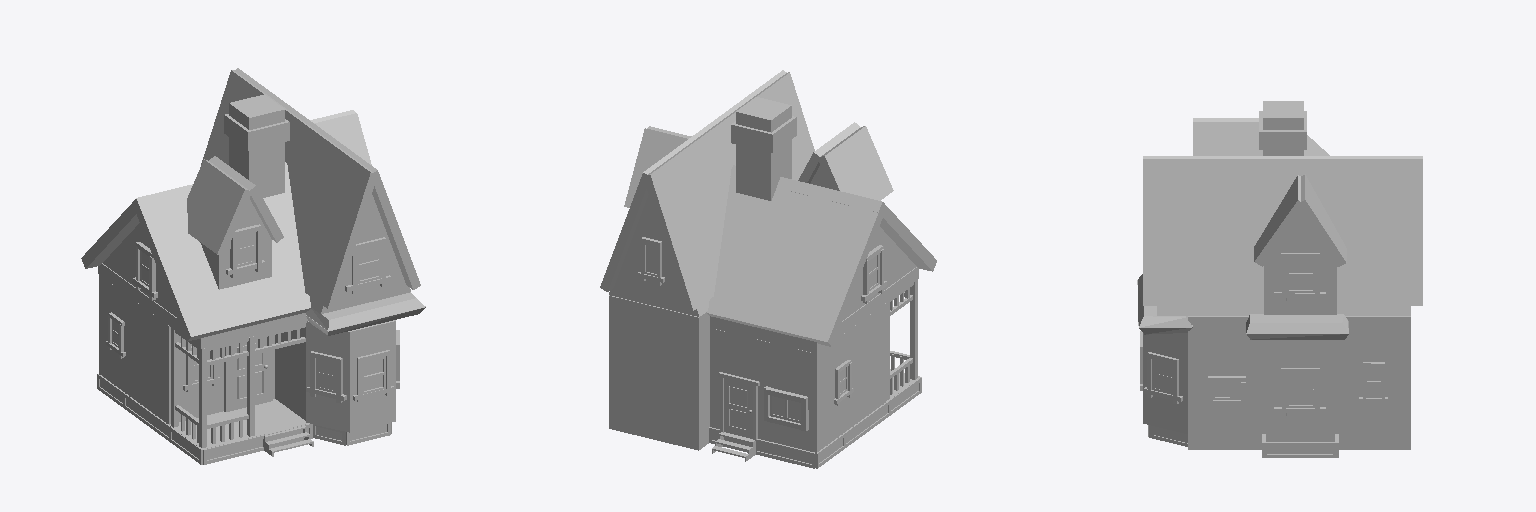
Rendered from house.obj.
The picture shows the model from 3 angles: view 1: azimuth 30°, elevation 25°; view 2: azimuth 150°, elevation 25°; view 3: azimuth 270°, elevation 25°; orthographic projection.
Parts seen in each view (by area): view 1: Cube.042, Cube.046, Cube.002, Cylinder, Cube.047, Cube.048, Cube.004, Cylinder.003, Cube.044, Cube.001, Cube.006, Cube.005 (+11 smaller); view 2: Cube.043, Cube.006, Cube.002, Cube.046, Cube.048, Cylinder.003, Cube.047, Cube.042, Cube.001, Cube.044, Cylinder.002, Cube.004 (+5 smaller); view 3: Cube.044, Cube.006, Cube.142, Cylinder, Cube.137, Cube.045, Cube.140, Cylinder.003, Cube.138, Cube.139, Cube.048, Cylinder.005 (+5 smaller).
Boxes of the visible parts, x1=… form: Cube.042: x1=132, y1=162, x2=311, y2=341; Cube.046: x1=201, y1=70, x2=376, y2=309; Cube.002: x1=99, y1=275, x2=274, y2=424; Cylinder: x1=306, y1=320, x2=395, y2=432; Cube.047: x1=187, y1=159, x2=250, y2=255; Cube.048: x1=229, y1=94, x2=284, y2=197; Cube.004: x1=99, y1=374, x2=308, y2=459; Cylinder.003: x1=310, y1=195, x2=410, y2=313; Cube.044: x1=234, y1=68, x2=420, y2=289; Cube.001: x1=98, y1=263, x2=307, y2=348; Cube.006: x1=275, y1=327, x2=305, y2=420; Cube.005: x1=306, y1=292, x2=424, y2=330; Cube.043: x1=707, y1=177, x2=885, y2=346; Cube.006: x1=609, y1=295, x2=709, y2=450; Cube.002: x1=710, y1=303, x2=885, y2=452; Cube.046: x1=647, y1=72, x2=814, y2=311; Cube.048: x1=736, y1=97, x2=791, y2=200; Cylinder.003: x1=609, y1=195, x2=709, y2=316; Cube.047: x1=818, y1=126, x2=893, y2=200; Cube.042: x1=730, y1=165, x2=936, y2=271; Cube.001: x1=710, y1=267, x2=918, y2=353; Cube.044: x1=600, y1=70, x2=786, y2=291; Cylinder.002: x1=842, y1=226, x2=916, y2=320; Cube.004: x1=711, y1=370, x2=918, y2=467; Cube.044: x1=1143, y1=159, x2=1422, y2=305; Cube.006: x1=1188, y1=316, x2=1410, y2=449; Cube.142: x1=1266, y1=340, x2=1334, y2=441; Cylinder: x1=1143, y1=333, x2=1187, y2=433; Cube.137: x1=1264, y1=259, x2=1336, y2=314; Cube.045: x1=1193, y1=122, x2=1262, y2=155; Cube.140: x1=1246, y1=314, x2=1348, y2=333; Cylinder.003: x1=1157, y1=306, x2=1410, y2=315; Cube.138: x1=1297, y1=174, x2=1346, y2=266; Cube.139: x1=1254, y1=175, x2=1300, y2=266; Cube.048: x1=1263, y1=101, x2=1303, y2=155; Cylinder.005: x1=1268, y1=212, x2=1331, y2=258.
Size of the model in its own units: 13.16 by 15.87 by 13.86.